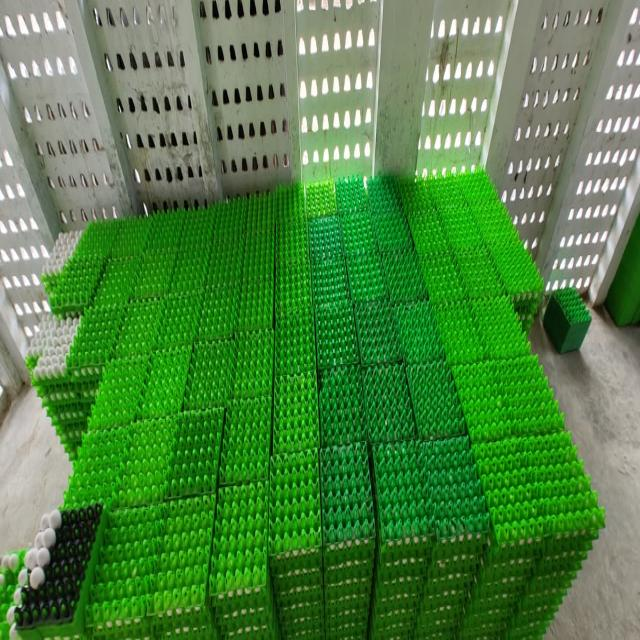egg_tray: (463, 430, 604, 636), (372, 437, 488, 636), (399, 172, 542, 329), (87, 495, 214, 635), (473, 431, 604, 560), (65, 409, 223, 507), (416, 439, 488, 632), (13, 504, 106, 636), (370, 441, 428, 637), (209, 481, 278, 636), (320, 442, 374, 636), (270, 449, 323, 636), (26, 315, 96, 455), (452, 356, 564, 443), (87, 505, 162, 631), (320, 442, 374, 591), (154, 494, 215, 613), (420, 437, 488, 543), (416, 532, 486, 633), (210, 482, 268, 602), (373, 441, 428, 549), (269, 449, 320, 565), (64, 427, 130, 507), (115, 420, 175, 506), (167, 409, 224, 496), (406, 361, 466, 437), (88, 354, 148, 429), (219, 398, 271, 484), (66, 306, 126, 378), (363, 364, 416, 442), (318, 366, 366, 448), (272, 371, 319, 453), (26, 316, 80, 387), (140, 345, 192, 418), (184, 340, 236, 410), (472, 297, 530, 357), (438, 190, 484, 260), (394, 300, 444, 363), (49, 256, 103, 313), (434, 300, 482, 363), (354, 301, 401, 364), (544, 288, 590, 352), (275, 214, 310, 298), (316, 300, 359, 368), (275, 305, 316, 375), (232, 329, 274, 397), (115, 299, 164, 357), (73, 223, 148, 260), (40, 231, 83, 293), (157, 290, 202, 347), (179, 206, 215, 276), (455, 245, 502, 298), (275, 249, 311, 317), (0, 550, 28, 637), (382, 247, 427, 301), (420, 249, 465, 302), (236, 266, 273, 330), (210, 198, 248, 260), (93, 256, 140, 306), (198, 283, 238, 341), (133, 247, 176, 298), (405, 205, 448, 255), (274, 209, 308, 272), (346, 251, 388, 301), (242, 216, 274, 279), (206, 234, 244, 287), (312, 256, 350, 308), (274, 185, 306, 244), (341, 207, 377, 258), (172, 245, 209, 293), (372, 208, 412, 252), (146, 209, 186, 251), (275, 185, 306, 238), (108, 219, 151, 257), (309, 216, 344, 262), (398, 176, 436, 217), (246, 191, 276, 238), (334, 176, 368, 216), (366, 175, 401, 213), (305, 180, 336, 217), (185, 278, 203, 287), (406, 566, 418, 571), (173, 274, 177, 288), (480, 269, 488, 275), (389, 545, 394, 554), (188, 620, 197, 624), (447, 487, 458, 490), (276, 307, 281, 312), (212, 261, 218, 265), (56, 396, 68, 398), (464, 514, 472, 517), (83, 230, 86, 235), (369, 185, 372, 190), (381, 564, 386, 567), (285, 295, 292, 297), (96, 224, 102, 225), (364, 571, 366, 574), (308, 280, 310, 283), (179, 622, 181, 625), (108, 224, 113, 225), (180, 278, 182, 280), (282, 299, 286, 300), (387, 566, 389, 568), (176, 622, 178, 624), (200, 620, 202, 622), (122, 220, 124, 221), (241, 262, 241, 263), (54, 396, 54, 397), (90, 226, 90, 227), (367, 607, 367, 610), (132, 632, 132, 634)
